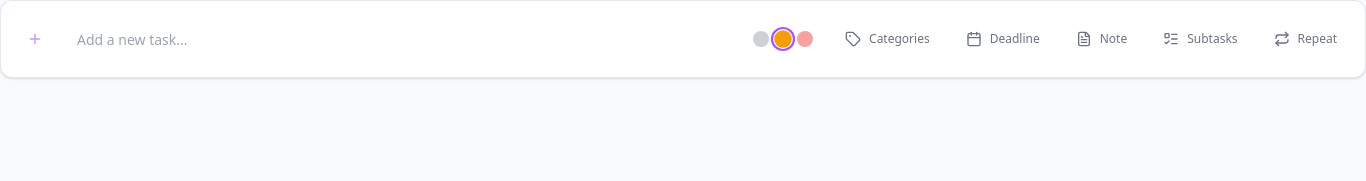
Scenario: TaskInput › subtasks › shows subtask input when Subtasks button is clicked
Click the button with aria-label "Add subtasks".
click(1200, 39)  # box 1151,17 -> 1250,61
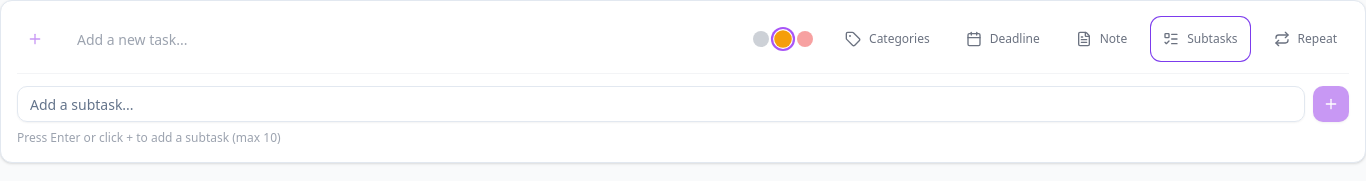
Check: the field named "New subtask title" is shown, box 17,86 -> 1305,122
